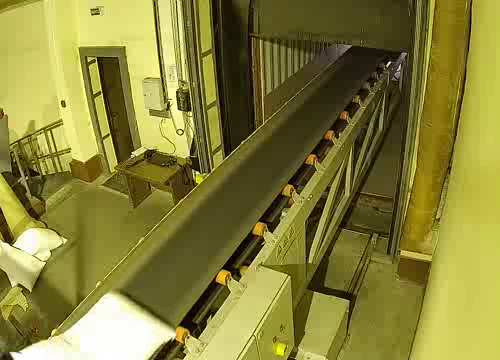bag: (10, 286, 177, 360)
